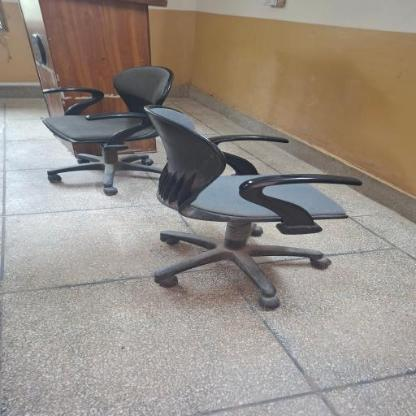chair: (134, 93, 368, 314), (38, 57, 178, 199)
